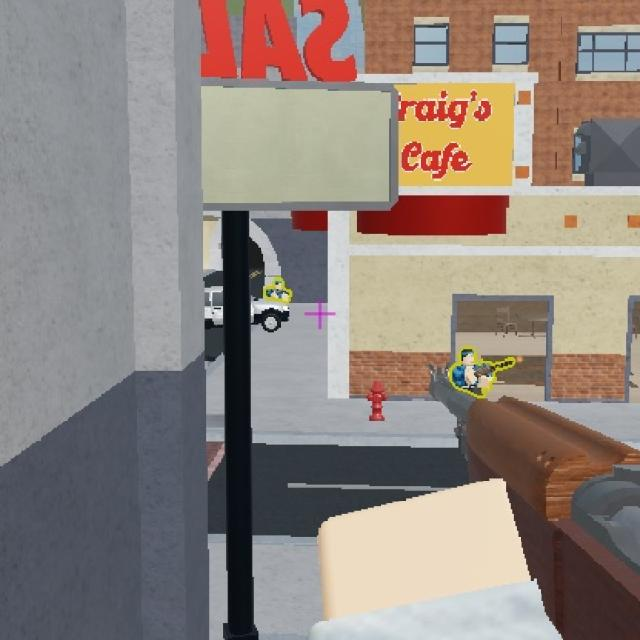player: (448, 347, 491, 389), (268, 275, 294, 302)
